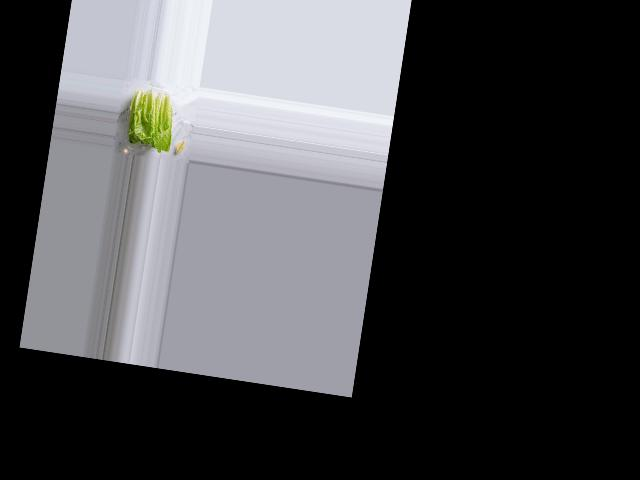lettuce: (122, 86, 180, 155)
